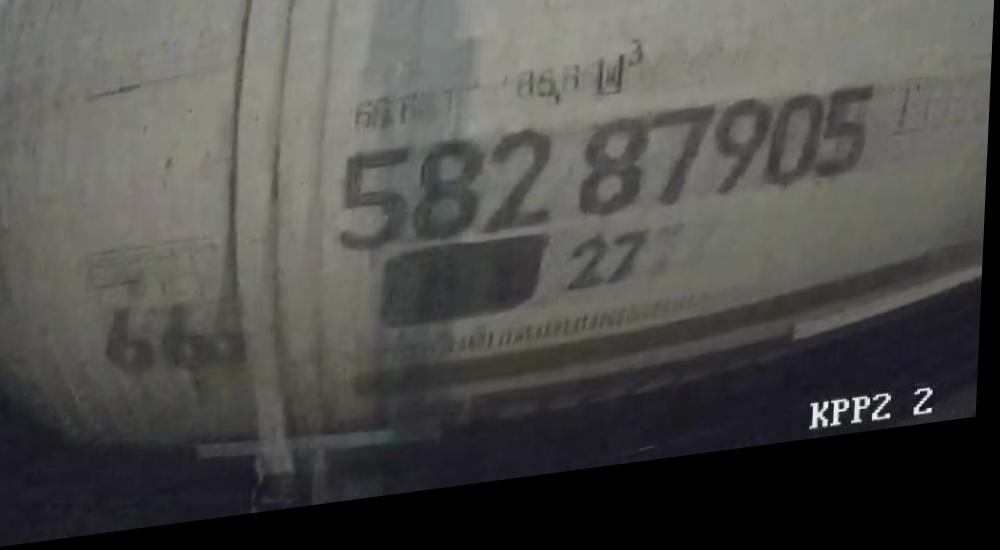Wagon-number: (336, 98, 877, 266)
